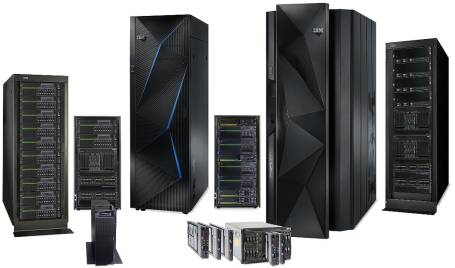ibm-server: (262, 1, 379, 242), (125, 11, 210, 216), (380, 36, 451, 218), (2, 70, 73, 241), (70, 111, 124, 214), (211, 109, 264, 213), (222, 218, 296, 268), (83, 198, 127, 267)
